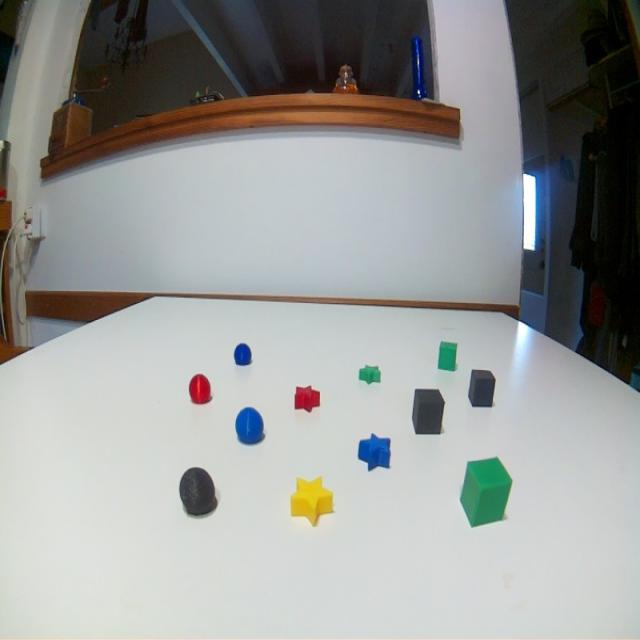ball: (177, 464, 219, 520), (233, 404, 266, 448), (188, 371, 214, 406), (233, 338, 254, 368)
cube: (459, 449, 513, 533), (410, 385, 448, 438), (467, 365, 497, 412), (434, 338, 461, 376)
star: (286, 472, 334, 530), (356, 430, 395, 477), (291, 379, 321, 417), (356, 358, 384, 391)
